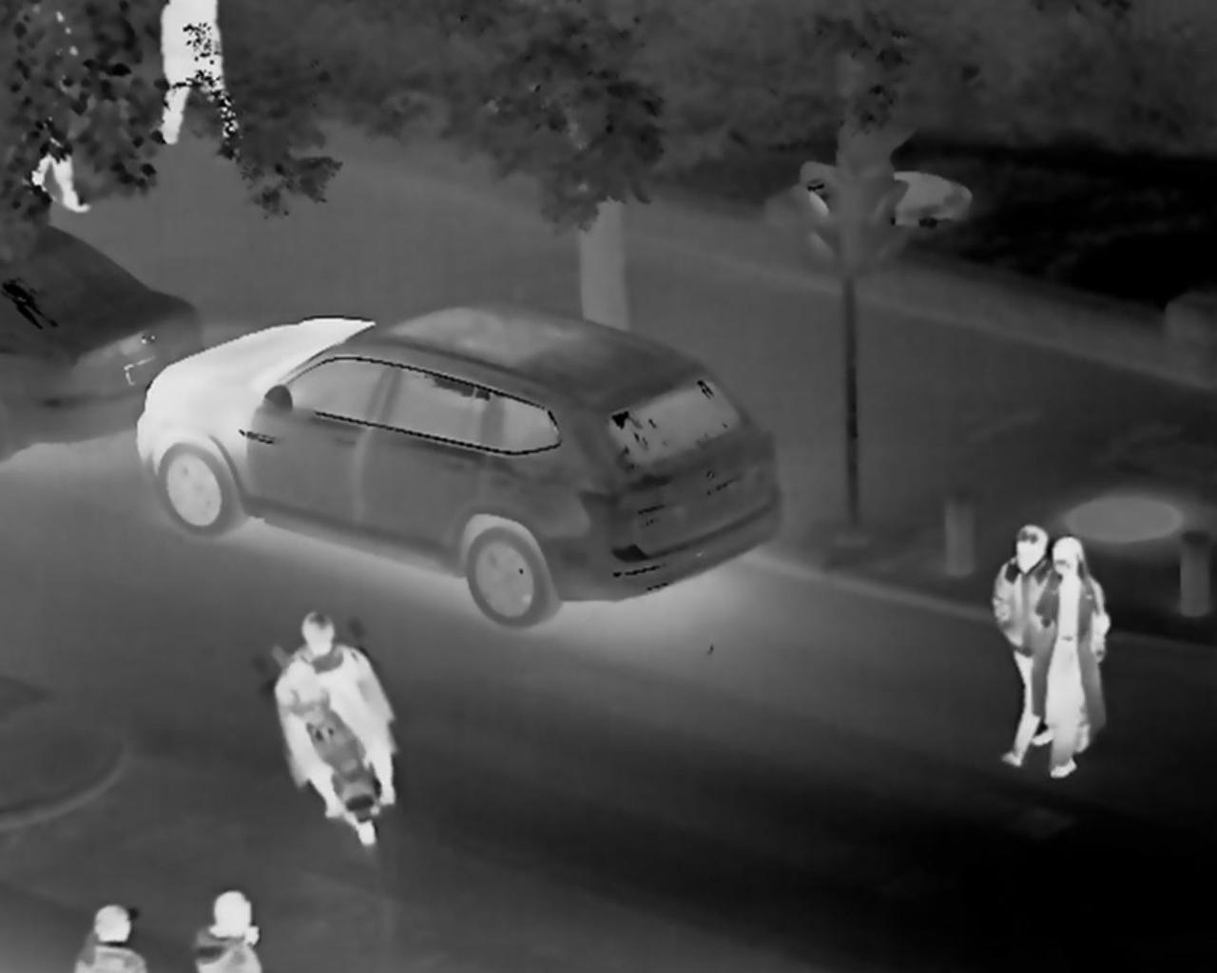person: (261, 614, 502, 834), (151, 5, 285, 161), (1055, 538, 1125, 801), (990, 510, 1053, 779), (177, 886, 300, 973), (101, 888, 144, 967)
